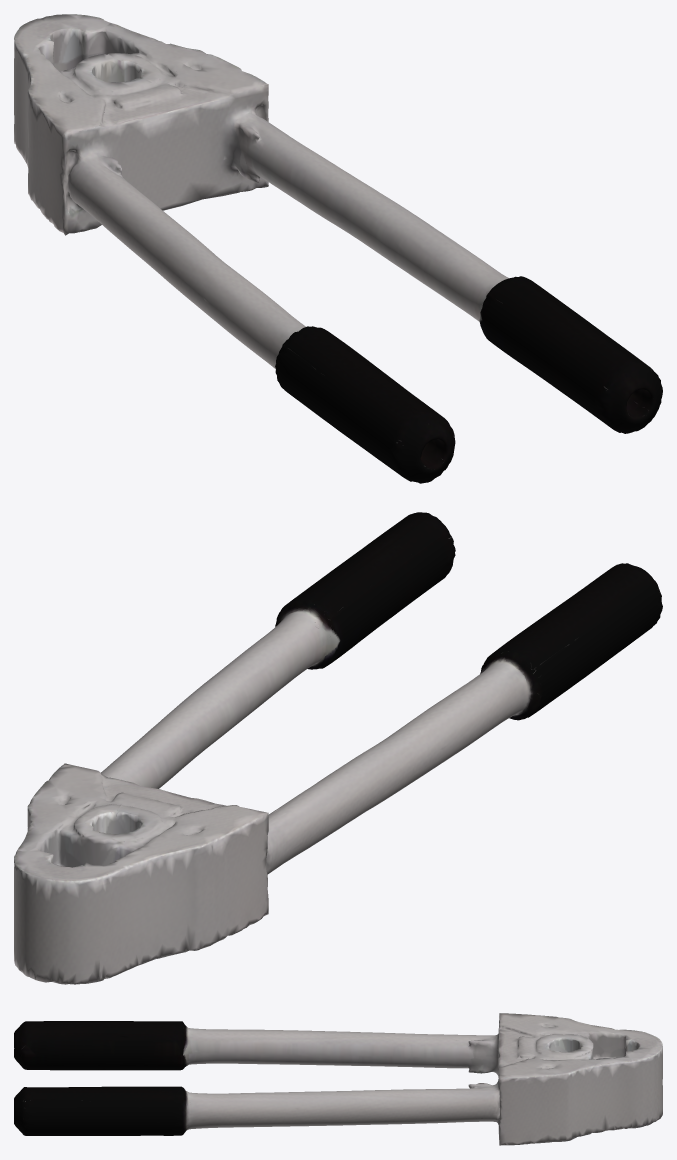
File: base_basic_pbr.glb
3 views of the same model, one above another, from view 1: azimuth 30°, elevation 25°; view 2: azimuth 150°, elevation 25°; view 3: azimuth 270°, elevation 25° (orthographic). The views are drawn at different scales.
Visible parts, largest first — view 1: model; view 2: model; view 3: model.
Part boxes in pixels (x1,y1,x2,y2): model: (14,14,662,483); model: (14,512,662,984); model: (14,1013,662,1145).
Bounding box in the file's own units: 0.5928 × 0.2213 × 1.9.
Materials: 1 (1 with a texture image).
